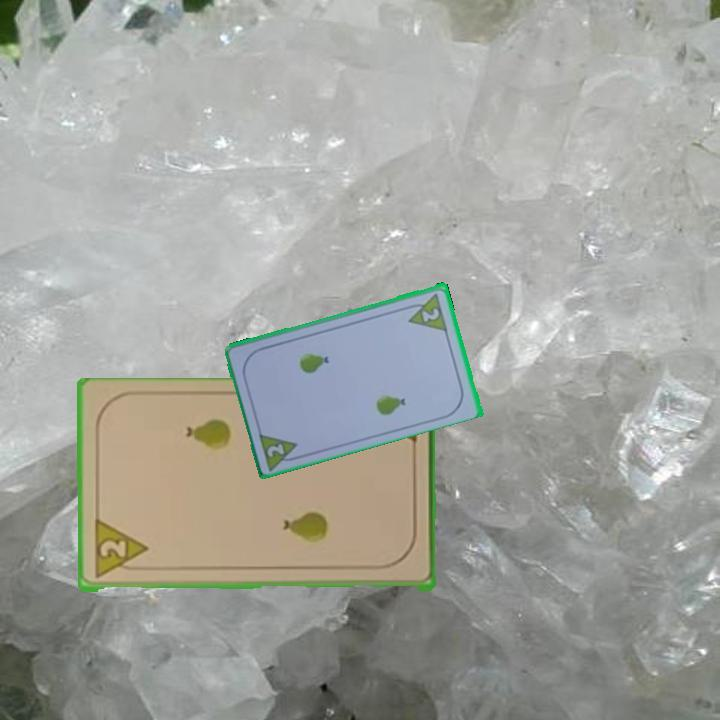2p: (90, 519, 150, 583), (255, 428, 305, 472), (418, 304, 442, 325)
